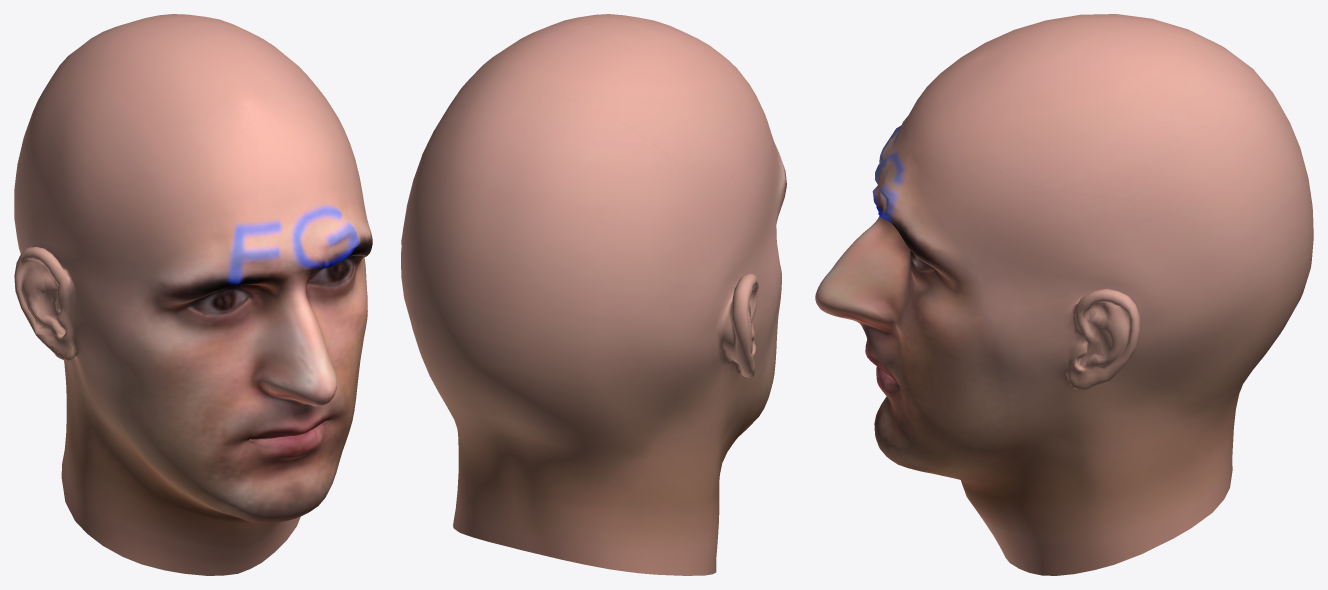
Rendered from MaleFaced18.obj.
3 views of the same model, side by side, from view 1: azimuth 30°, elevation 25°; view 2: azimuth 150°, elevation 25°; view 3: azimuth 270°, elevation 25° (orthographic). The views are drawn at different scales.
Visible parts, largest first — view 1: HeadHires; view 2: HeadHires; view 3: HeadHires.
Boxes of the visible parts, box(x1,y1,x2,y2) form: HeadHires: box(14, 14, 372, 575); HeadHires: box(401, 14, 786, 575); HeadHires: box(815, 14, 1313, 575).
Size of the model in its own units: 187 by 283 by 244.
